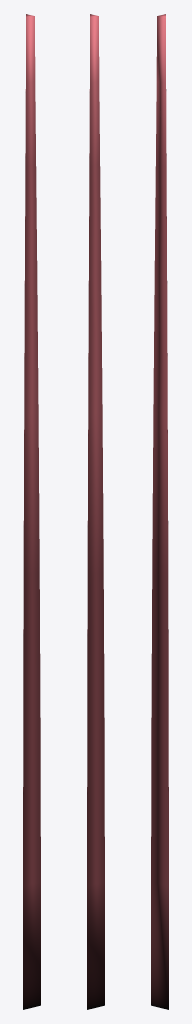
File: DetReed02.fbx
The picture shows the model from 3 angles, left to right: view 1: azimuth 30°, elevation 25°; view 2: azimuth 150°, elevation 25°; view 3: azimuth 330°, elevation 25°; orthographic projection.
Parts seen in each view (by area): view 1: DetReed02_LOD0; view 2: DetReed02_LOD0; view 3: DetReed02_LOD0.
Boxes of the visible parts, x1,y1,x2,y2 form: DetReed02_LOD0: [23, 14, 40, 1009]; DetReed02_LOD0: [87, 14, 104, 1009]; DetReed02_LOD0: [151, 14, 168, 1009].
Size of what is drawn, in the model's own units: 2.37 by 126 by 2.06.
